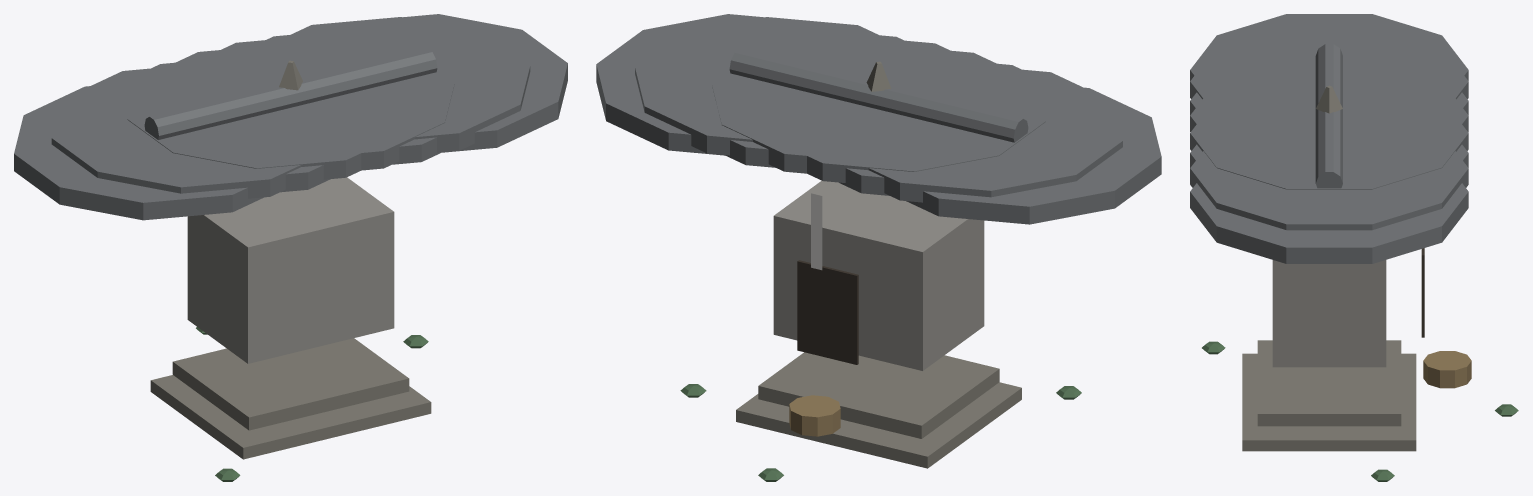
File: family_shrine.glb
3 renders of one model, left to right at view 1: azimuth 30°, elevation 25°; view 2: azimuth 150°, elevation 25°; view 3: azimuth 270°, elevation 25°, orthographic. The views are drawn at different scales.
Parts seen in each view (by area): view 1: family_shrine; view 2: family_shrine, shrine_smoke; view 3: family_shrine.
Boxes of the visible parts, x1,y1,x2,y2 form: family_shrine: [14, 14, 567, 481]; family_shrine: [596, 14, 1161, 481]; shrine_smoke: [811, 193, 822, 270]; family_shrine: [1190, 14, 1518, 481].
Size of the model in its own units: 3.65 by 2.35 by 2.17.
